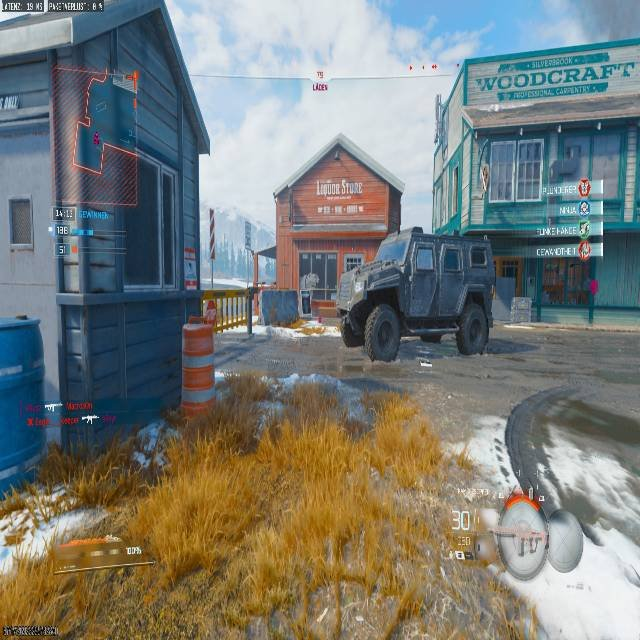head: (493, 386, 640, 559)
